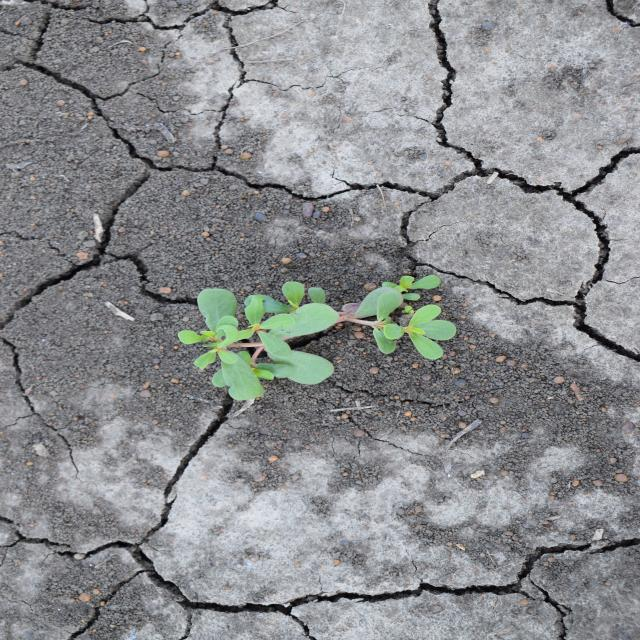Purslane: (176, 272, 460, 402)
